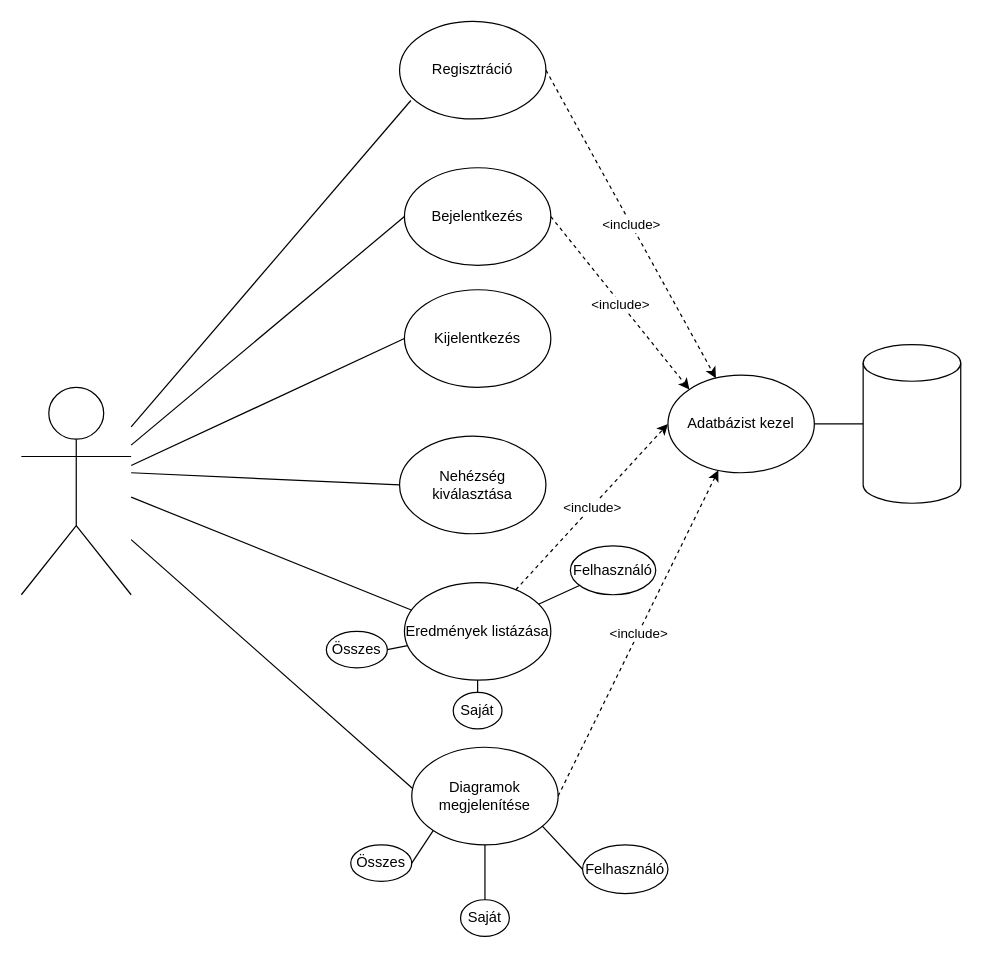
Some shapes in this 982 by 958 pixel diagram are drawn without their labels. Each missing label, with the box of its shape:
Actor: (20, 386, 131, 595)
Adatbázis: (862, 343, 961, 503)
